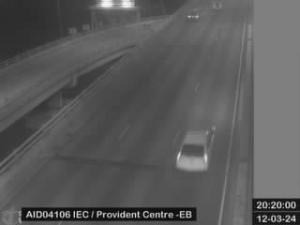vehicle: (176, 126, 214, 170), (188, 12, 199, 20)
